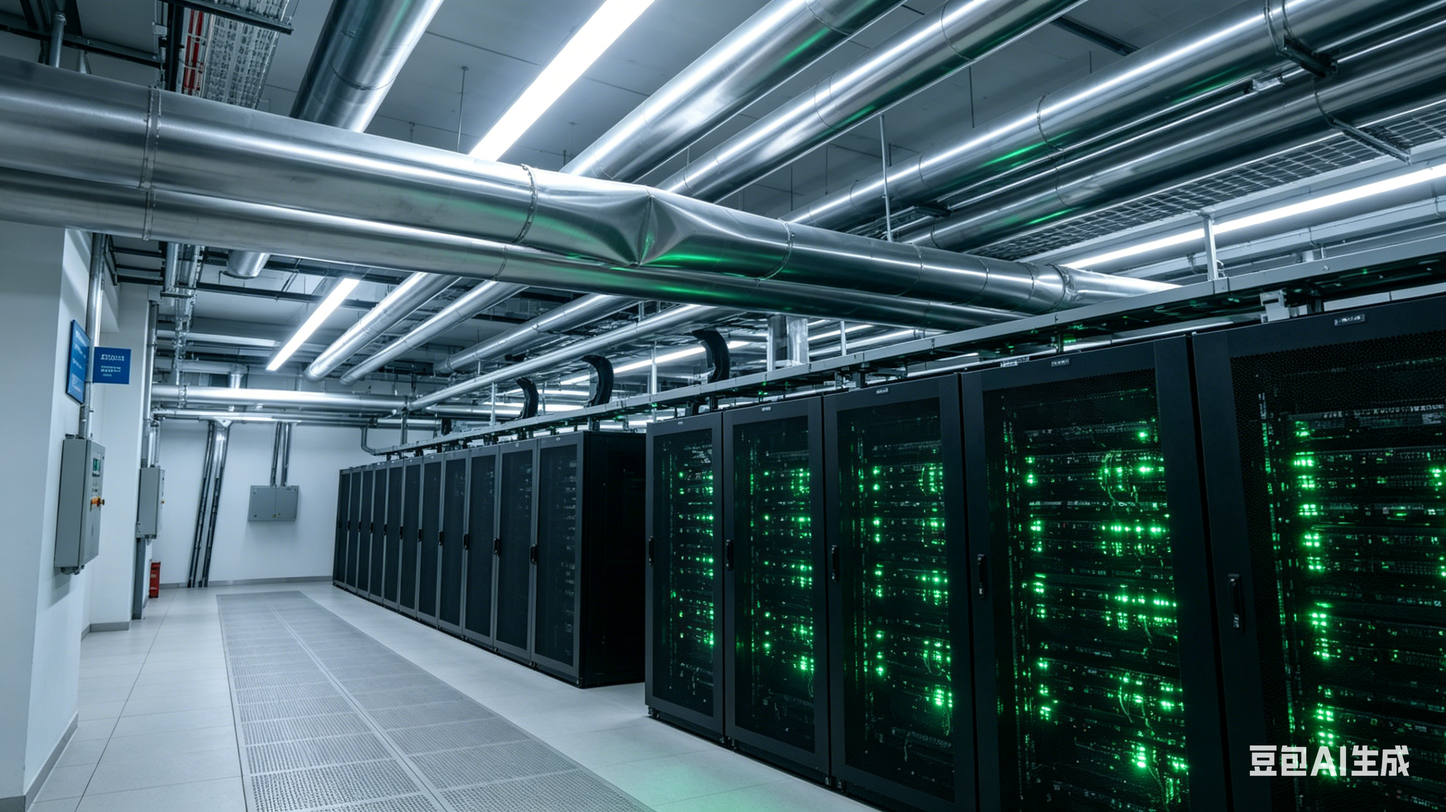Leakage: (597, 189, 701, 289)
